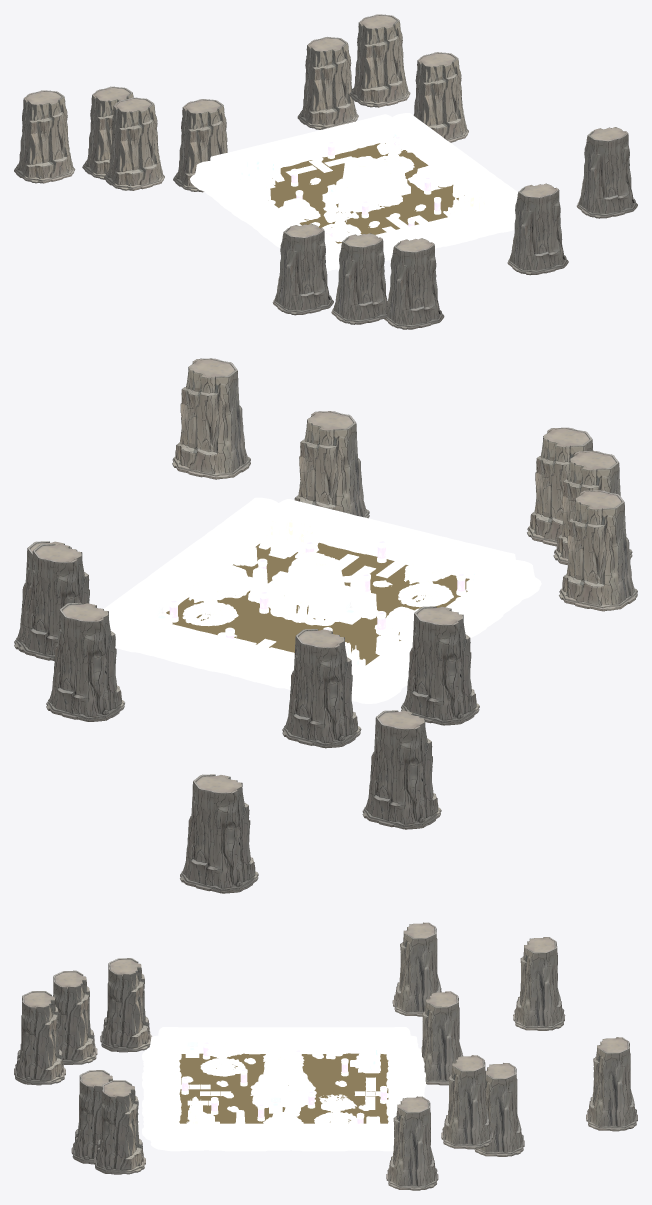
File: harvest_map.glb
3 views of the same model, one above another, from view 1: azimuth 30°, elevation 25°; view 2: azimuth 150°, elevation 25°; view 3: azimuth 270°, elevation 25° (orthographic). The views are drawn at different scales.
Visible parts, largest first — view 1: Floor, model_LOD0_2, model_LOD0_1_1, model_LOD0, mesh_node_42, model_LOD0_4, model_LOD0_5, model_LOD0_1_2, model_LOD0_3_1, model_LOD0_4_1, model_LOD0_2_1, mesh_node_45 (+12 smaller); view 2: Floor, model_LOD0_5, model_LOD0_3_1, model_LOD0_6, model_LOD0_1_1, model_LOD0_4, model_LOD0_1, model_LOD0, mesh_node_43, mesh_node_42, mesh_node_44, mesh_node_45 (+10 smaller); view 3: Floor, mesh_node_44, mesh_node_45, model_LOD0_3_1, model_LOD0_4_1, model_LOD0_5, model_LOD0_6, model_LOD0_2, model_LOD0_3, model_LOD0_1_1, mesh_node_43, model_LOD0 (+10 smaller).
Part boxes in pixels (x1,y1,x2,y2): Floor: (270,143,464,243); model_LOD0_2: (349,14,410,107); model_LOD0_1_1: (14,90,75,183); model_LOD0: (104,97,164,190); mesh_node_42: (210,114,396,177); model_LOD0_4: (297,37,358,129); model_LOD0_5: (576,127,637,218); model_LOD0_1_2: (507,183,568,275); model_LOD0_3_1: (272,223,333,315); model_LOD0_4_1: (384,238,444,329); model_LOD0_2_1: (331,233,388,324); mesh_node_45: (190,160,335,271); Floor: (166,542,469,665); model_LOD0_5: (172,358,250,479); model_LOD0_3_1: (559,490,637,611); model_LOD0_6: (180,774,258,893); model_LOD0_1_1: (362,710,441,829); model_LOD0_4: (46,602,124,721); model_LOD0_1: (282,629,361,748); model_LOD0: (401,606,479,725); mesh_node_43: (273,499,515,578); mesh_node_42: (115,614,357,698); mesh_node_44: (104,497,277,634); mesh_node_45: (351,559,541,703); Floor: (179,1053,388,1123); mesh_node_44: (150,1123,394,1151); mesh_node_45: (158,1027,418,1054); model_LOD0_3_1: (100,958,151,1052); model_LOD0_4_1: (14,991,65,1085); model_LOD0_5: (94,1080,145,1174); model_LOD0_6: (586,1037,637,1131); model_LOD0_2: (441,1055,493,1149); model_LOD0_3: (386,1096,438,1190); model_LOD0_1_1: (513,937,565,1030); mesh_node_43: (142,1035,181,1140); model_LOD0: (392,922,441,1016).
Bounding box in the file's own units: 87.62 × 31.47 × 116.
Materials: 11 (10 with a texture image).
